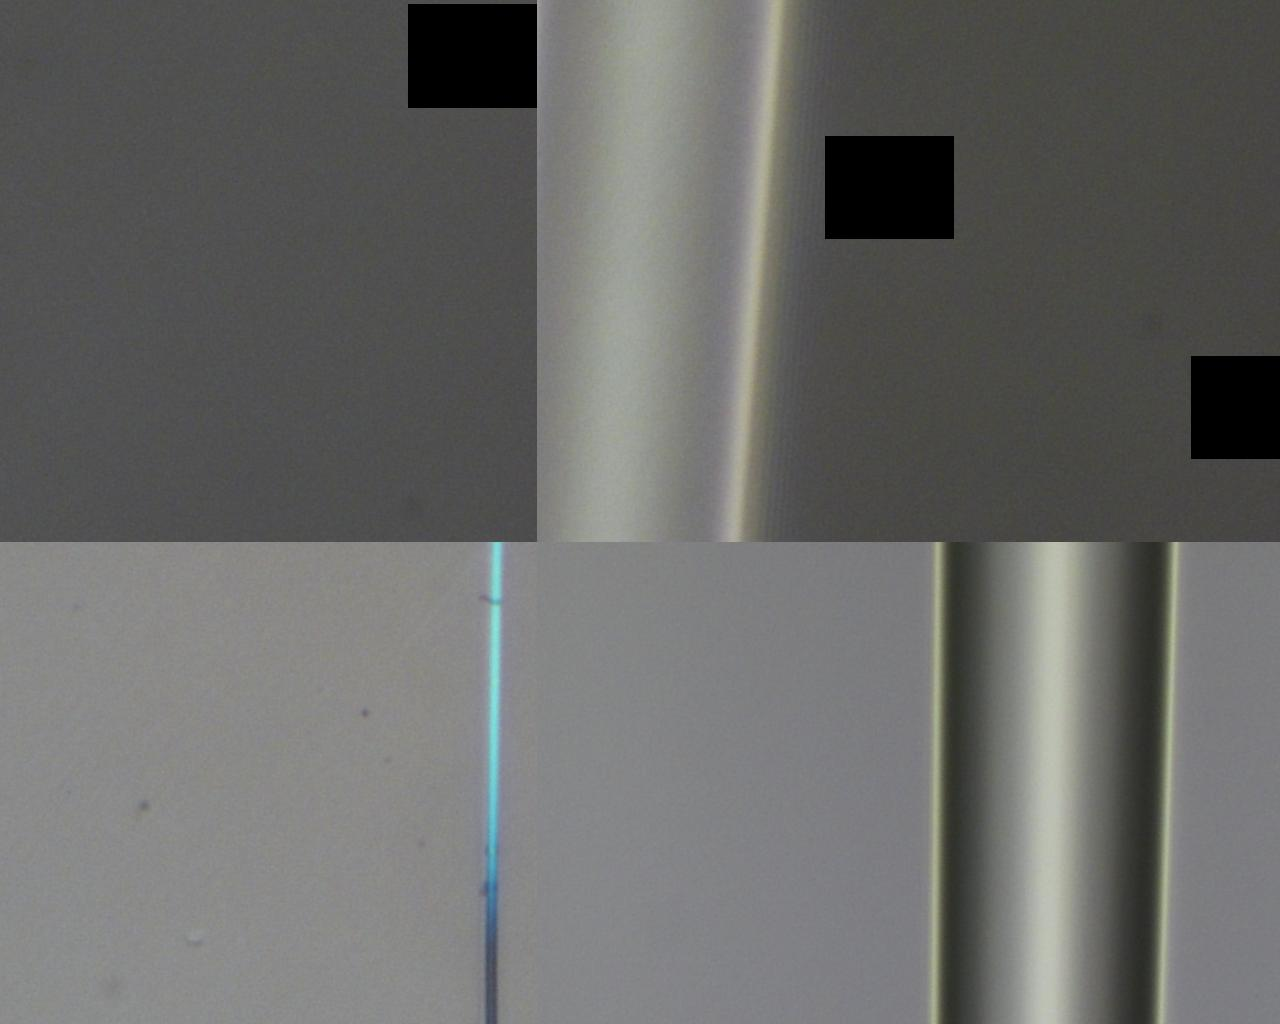fiber: (292, 0, 1024, 1024)
